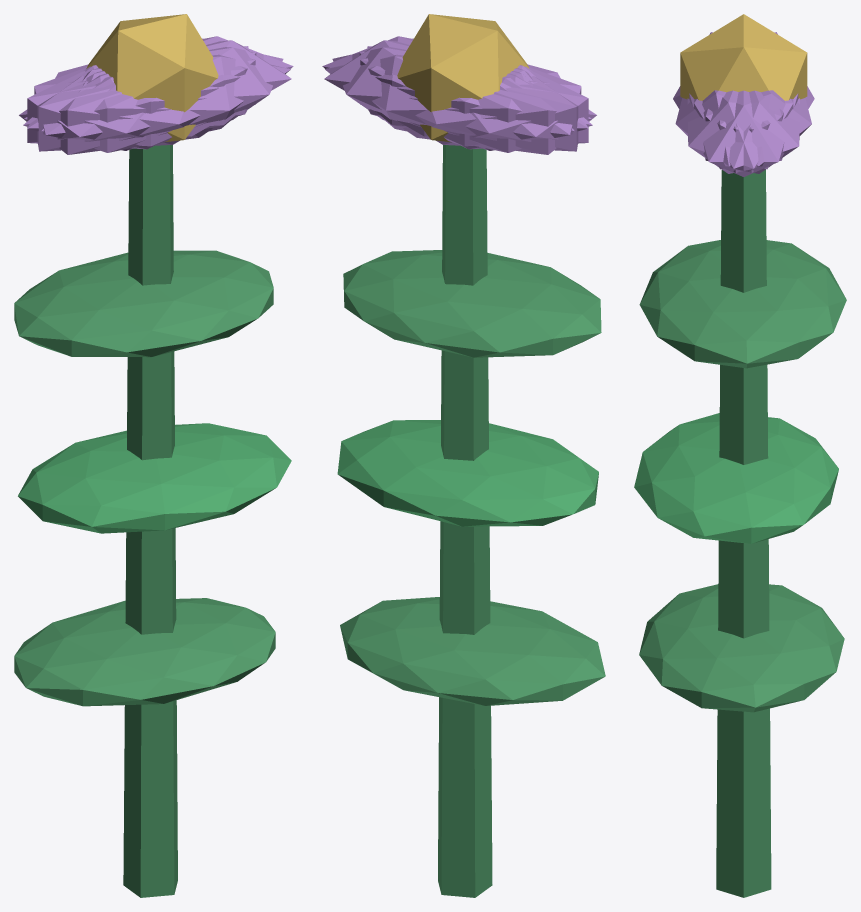
The model's file is calyptocarpus-vialis.glb.
The picture shows the model from 3 angles, left to right: view 1: azimuth 30°, elevation 25°; view 2: azimuth 150°, elevation 25°; view 3: azimuth 270°, elevation 25°; orthographic projection.
Visible parts, largest first — view 1: stem, leaf1, leaf2, leaf0, center, petal1, petal6, petal2, petal5, petal7, petal0, petal4 (+2 smaller); view 2: stem, leaf2, leaf0, leaf1, center, petal8, petal3, petal7, petal4, petal2, petal0, petal5 (+2 smaller); view 3: stem, leaf2, leaf1, leaf0, center, petal0, petal5, petal4, petal8, petal1.
Part boxes in pixels (x1,y1,x2,y2): stem: [123, 145, 177, 897]; leaf1: [18, 423, 291, 533]; leaf2: [14, 250, 273, 357]; leaf0: [14, 598, 275, 706]; center: [86, 14, 218, 142]; petal1: [23, 54, 290, 152]; petal6: [19, 66, 212, 154]; petal2: [37, 46, 248, 151]; petal5: [41, 47, 283, 146]; petal7: [27, 51, 256, 149]; petal0: [86, 40, 291, 136]; petal4: [24, 36, 293, 128]; stem: [438, 145, 492, 897]; leaf2: [343, 250, 601, 357]; leaf0: [340, 597, 605, 705]; leaf1: [337, 420, 598, 526]; center: [397, 14, 529, 142]; petal8: [325, 54, 592, 152]; petal3: [403, 66, 596, 154]; petal7: [367, 46, 578, 151]; petal4: [332, 47, 574, 146]; petal2: [359, 51, 588, 149]; petal0: [324, 40, 529, 136]; petal5: [322, 36, 591, 128]; stem: [716, 169, 771, 897]; leaf2: [639, 240, 846, 368]; leaf1: [634, 413, 838, 543]; leaf0: [639, 584, 844, 712]; center: [680, 14, 807, 100]; petal0: [689, 90, 798, 176]; petal5: [687, 90, 793, 173]; petal4: [694, 90, 799, 173]; petal8: [703, 90, 811, 166]; petal1: [675, 90, 783, 166].
Bounding box in the file's own units: 0.1497 × 0.4547 × 0.1026.
